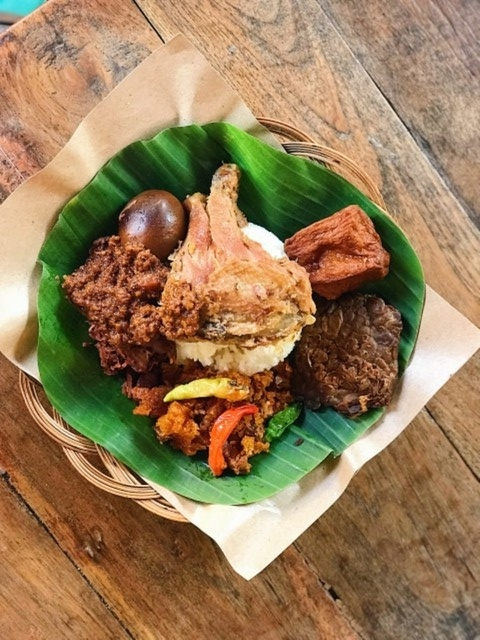gudeg: (62, 165, 402, 479)
